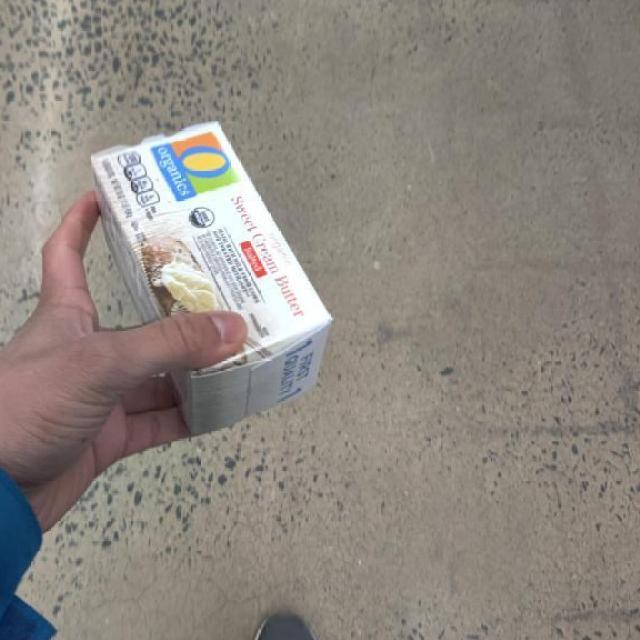Butter: (74, 116, 354, 447)
